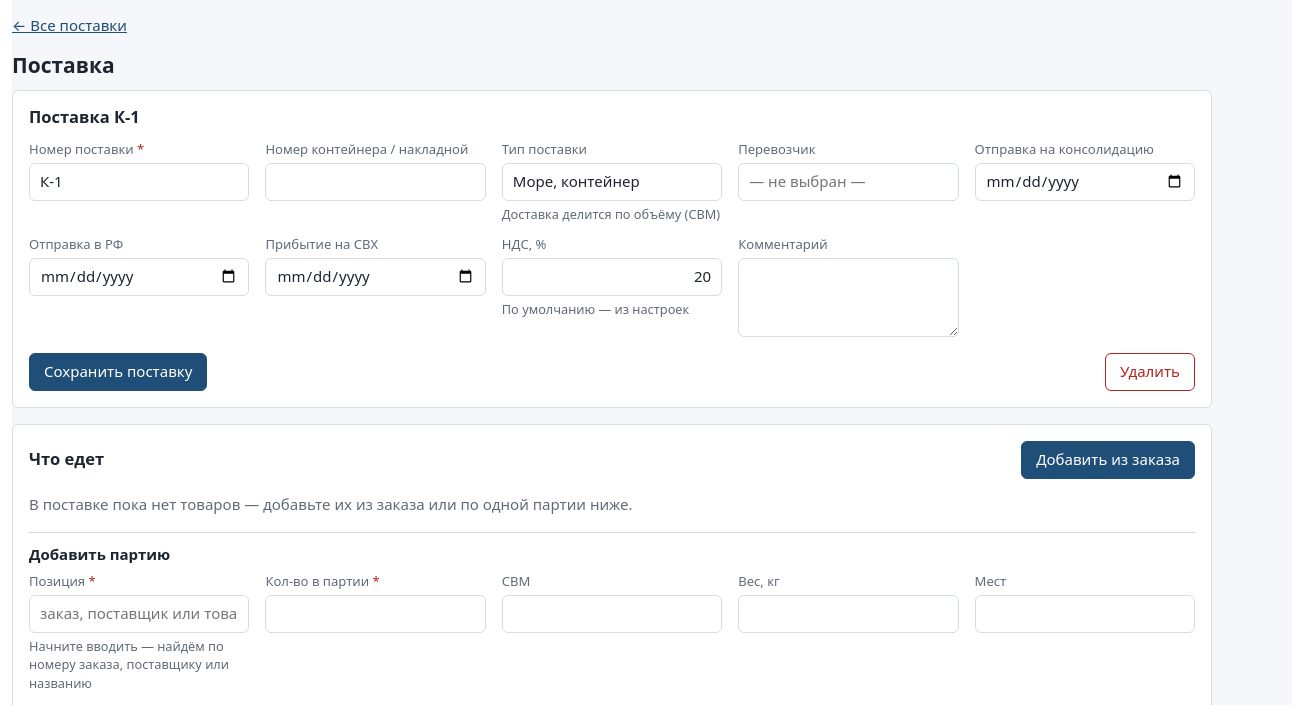
Test: удаление › поставка с затратами не удаляется — запрет с перечислением
The image size is (1292, 705).
Click the button "Удалить".
click(1150, 372)  # box left=1105, top=353, right=1195, bottom=391
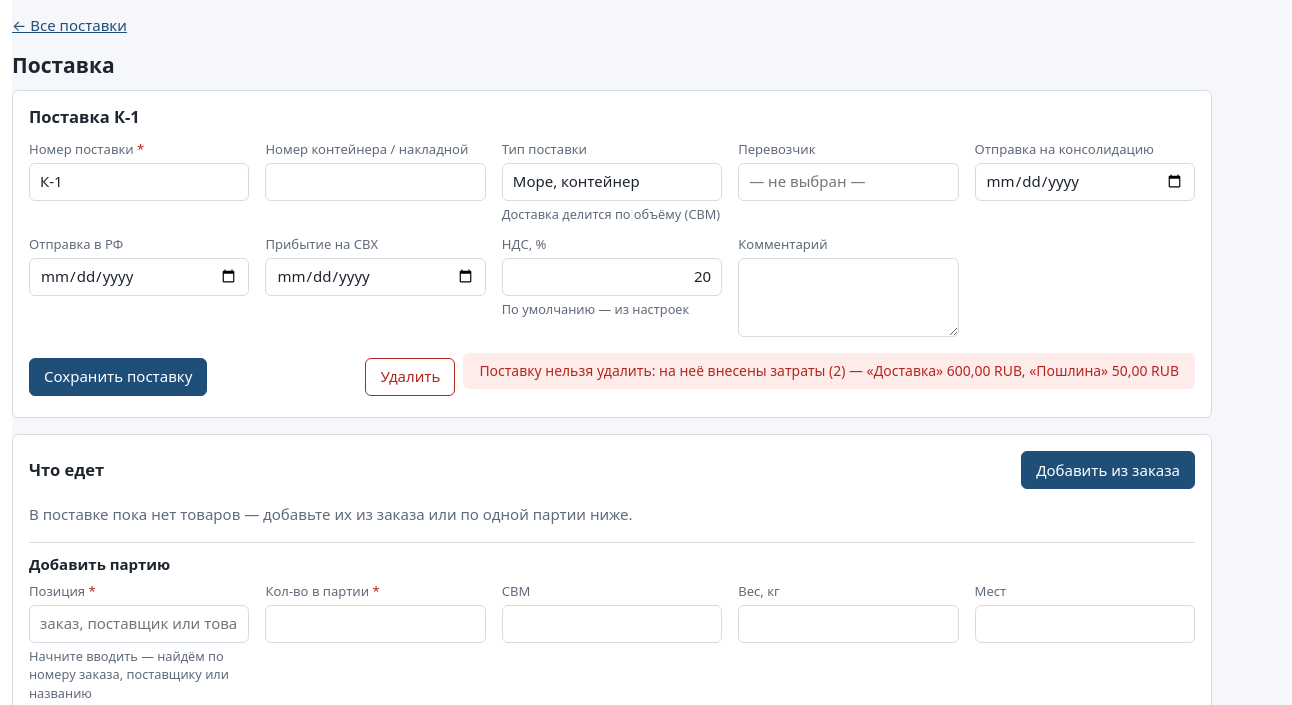
Expected: the message shows "«Доставка»", left=479, top=361, right=1179, bottom=380
Expected: the message shows "«Пошлина»", left=479, top=361, right=1179, bottom=380
